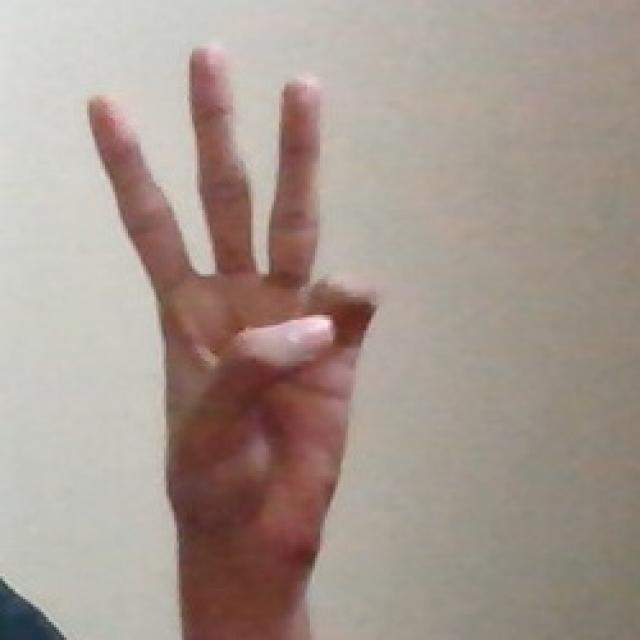Numeric-6: (84, 32, 382, 606)
